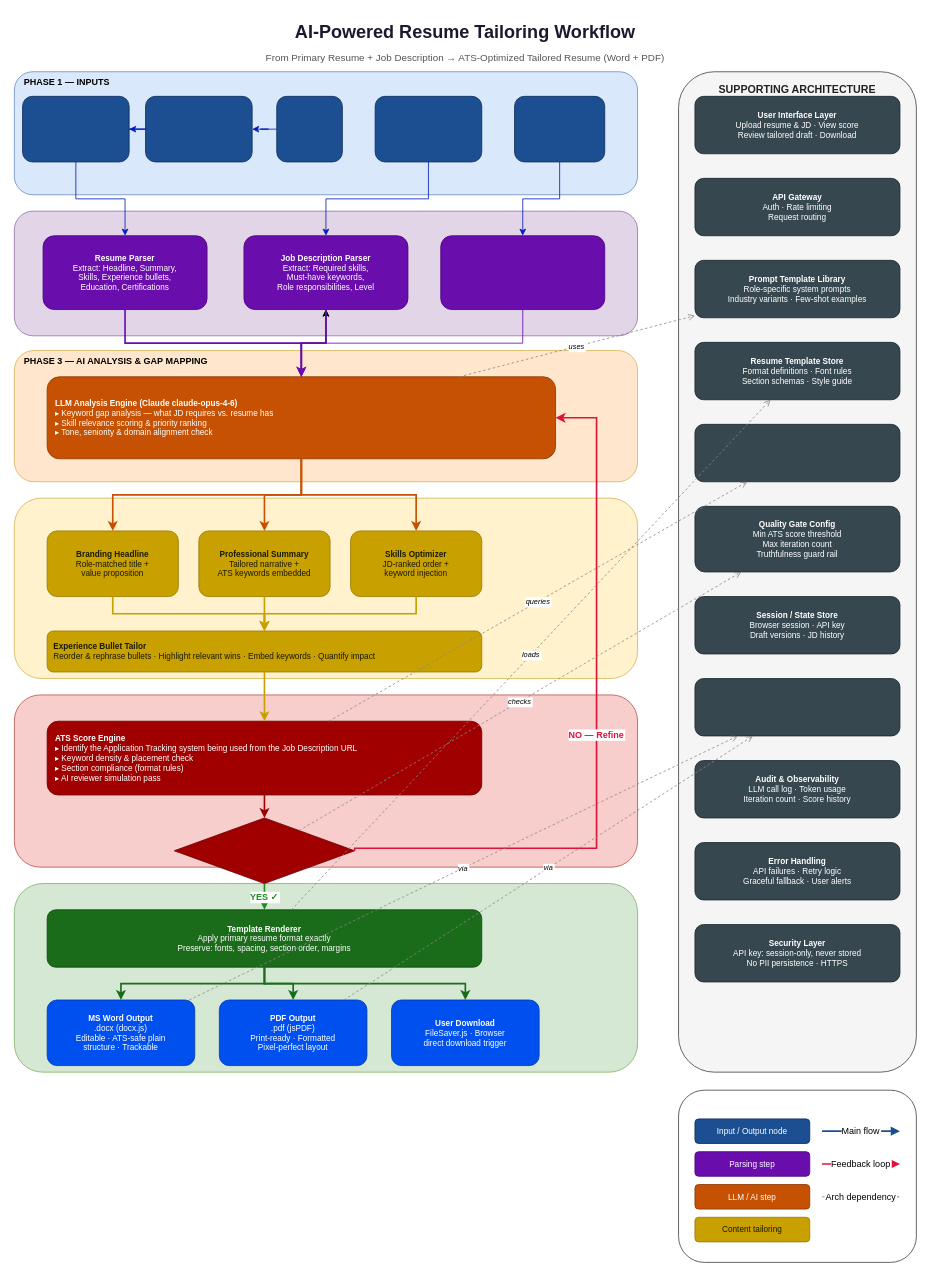
This 931x1277 diagram has some shape labels left out. The box of each missing label's shape, as (x1, y1, x2, y2) in pixels:
ATS Rules Database Workday · Greenhouse · Taleo Keyword weights · Format rules: (694, 424, 900, 482)
Company Name Company URL: (514, 96, 605, 162)
Company Researcher , Perform research on company initiatives and opportunities: (440, 235, 605, 310)
Export Engine docx.js 8.2.4 · jsPDF 2.5.1 FileSaver.js · Font embed: (694, 678, 900, 736)
Job Posting URL Job Description Target role posting Company context: (374, 96, 482, 162)
LEGEND: (678, 1089, 916, 1262)
LinkedIn Profile Master Content source & networking: (276, 96, 342, 162)
PHASE 2 — PARSING & EXTRACTION: (14, 210, 638, 336)
PHASE 4 — AI-POWERED CONTENT TAILORING: (14, 497, 638, 679)
PHASE 5 — ATS & AI REVIEWER VALIDATION: (14, 694, 638, 867)
PHASE 6 — OUTPUT GENERATION & DELIVERY: (14, 883, 638, 1072)
Primary Resume Master content source All experience, skills, edu: (22, 96, 129, 162)
Resume Template Format & style guide Font, layout, section order: (145, 96, 252, 162)
Score ≥ Target? ATS ≥ 80% & AI ≥ 90%: (173, 817, 355, 884)
